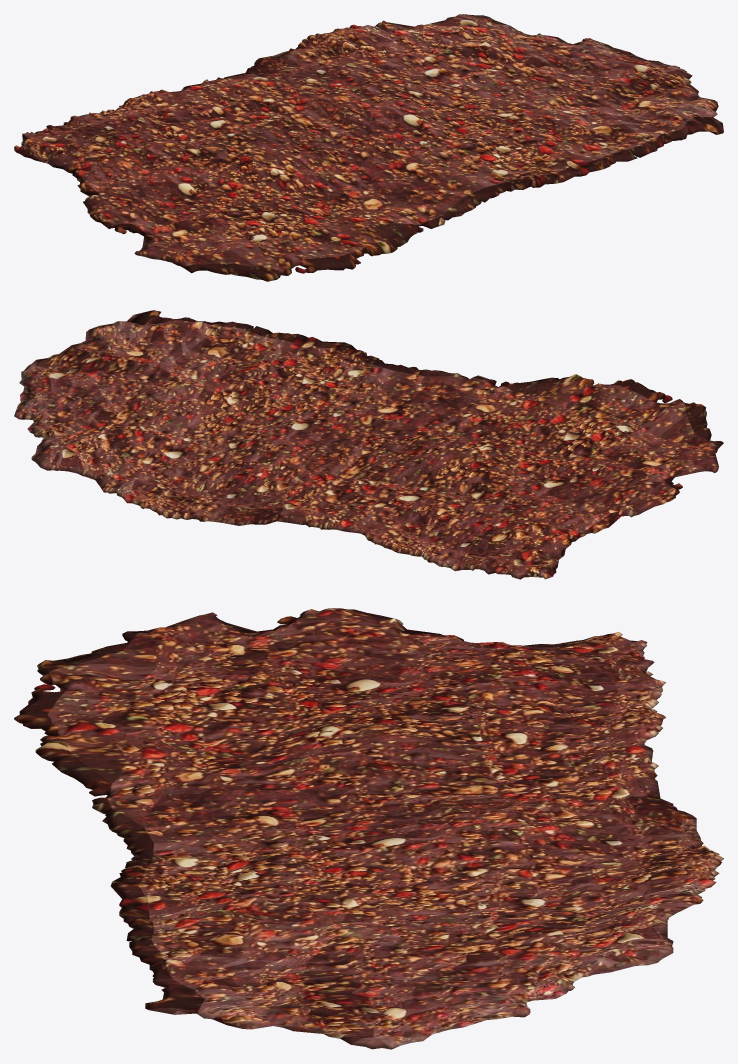
Rendered from kilishi.glb.
3 renders of one model, top to bottom at view 1: azimuth 30°, elevation 25°; view 2: azimuth 150°, elevation 25°; view 3: azimuth 270°, elevation 25°, orthographic. The views are drawn at different scales.
Visible parts, largest first — view 1: kilishi; view 2: kilishi; view 3: kilishi.
Boxes of the visible parts, x1=… form: kilishi: x1=14, y1=14, x2=723, y2=281; kilishi: x1=14, y1=310, x2=723, y2=579; kilishi: x1=14, y1=608, x2=723, y2=1049.
Bounding box in the file's own units: 0.2486 × 0.00782 × 0.1757.
1 material, 1 textured.
